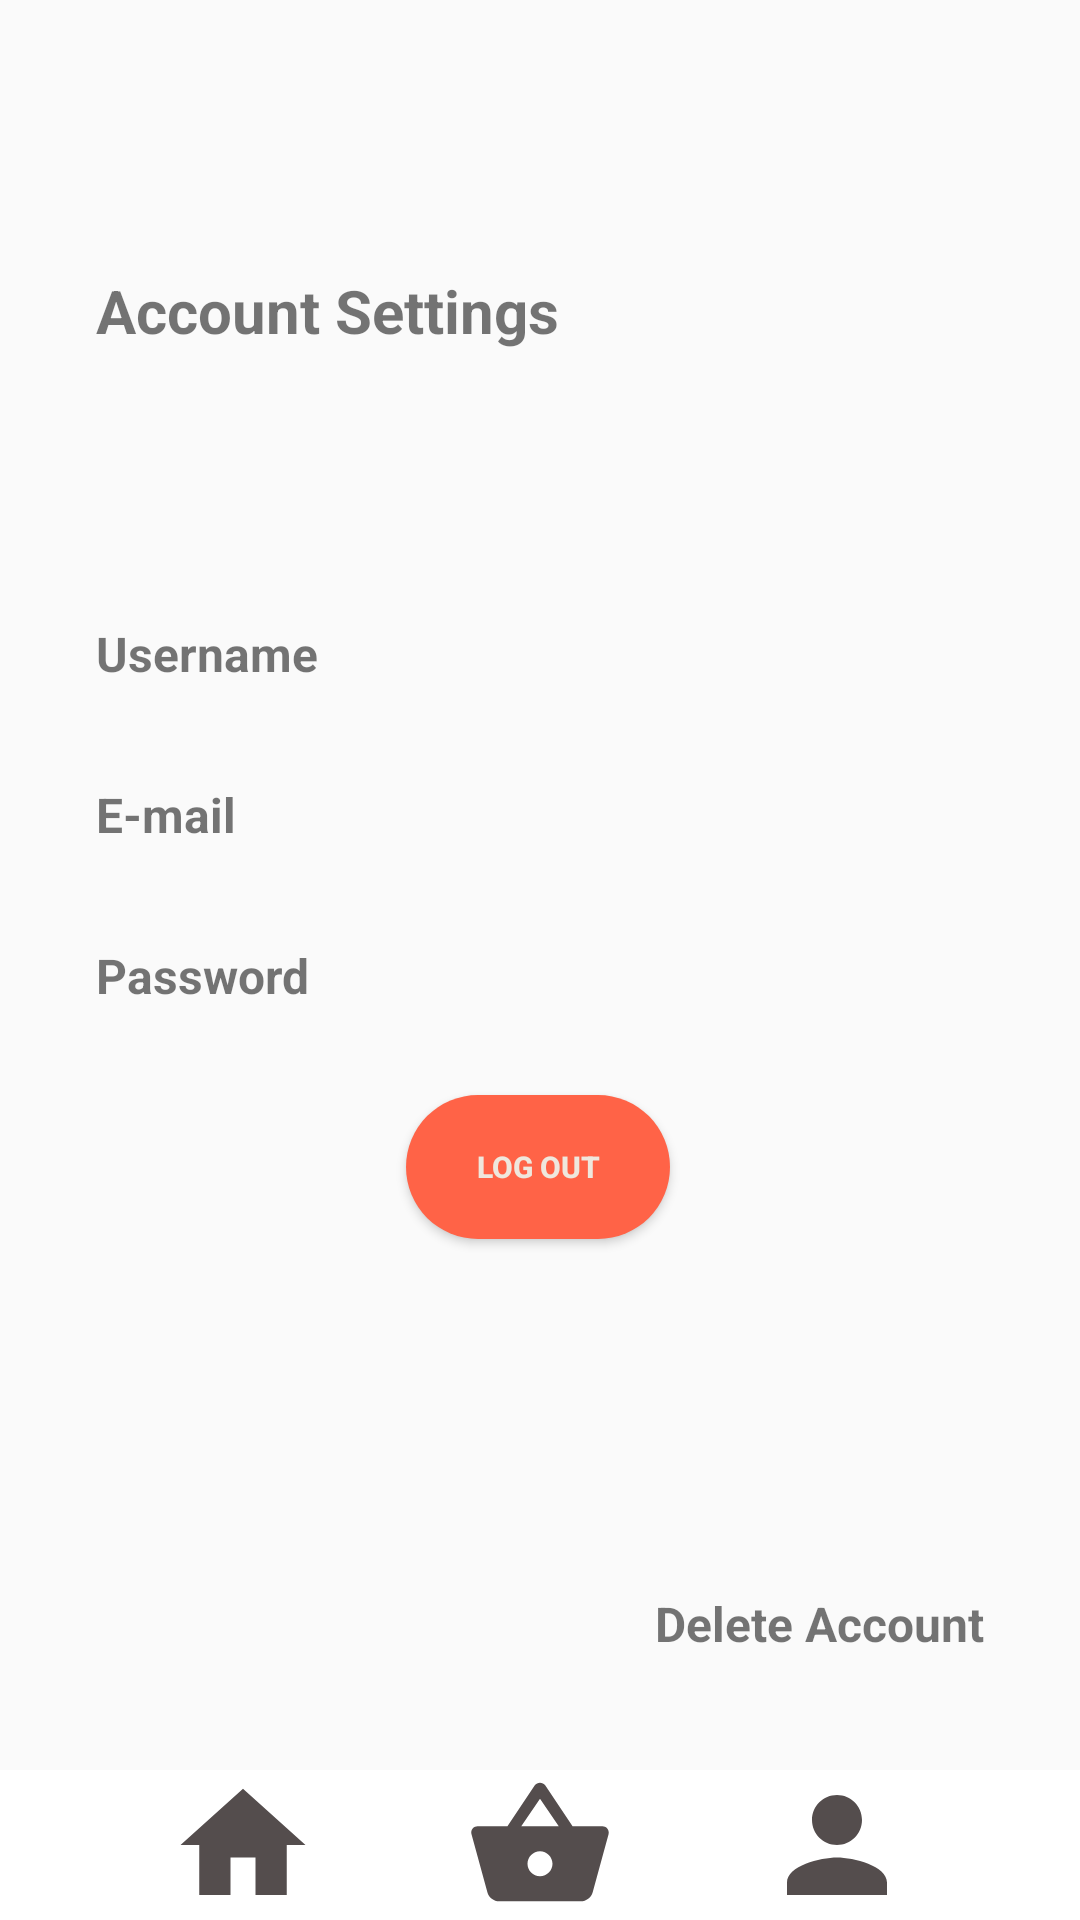

Icon click points for this 1080w x 1920h phone screenshot, format point (x, y):
basket: point (540, 1842)
home: point (243, 1842)
person: point (837, 1845)
